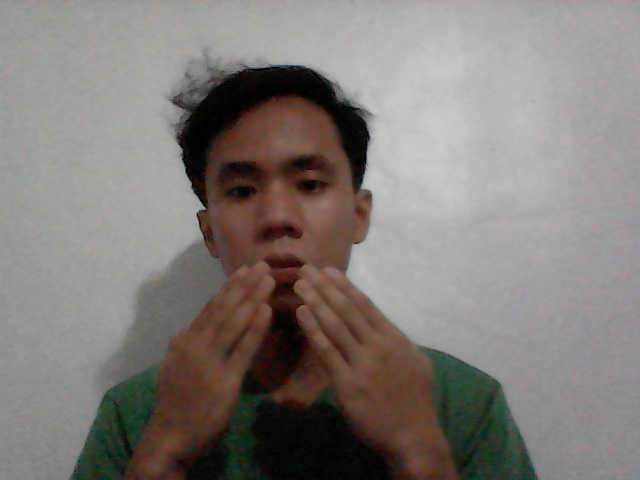Thank You: (121, 255, 465, 451)
